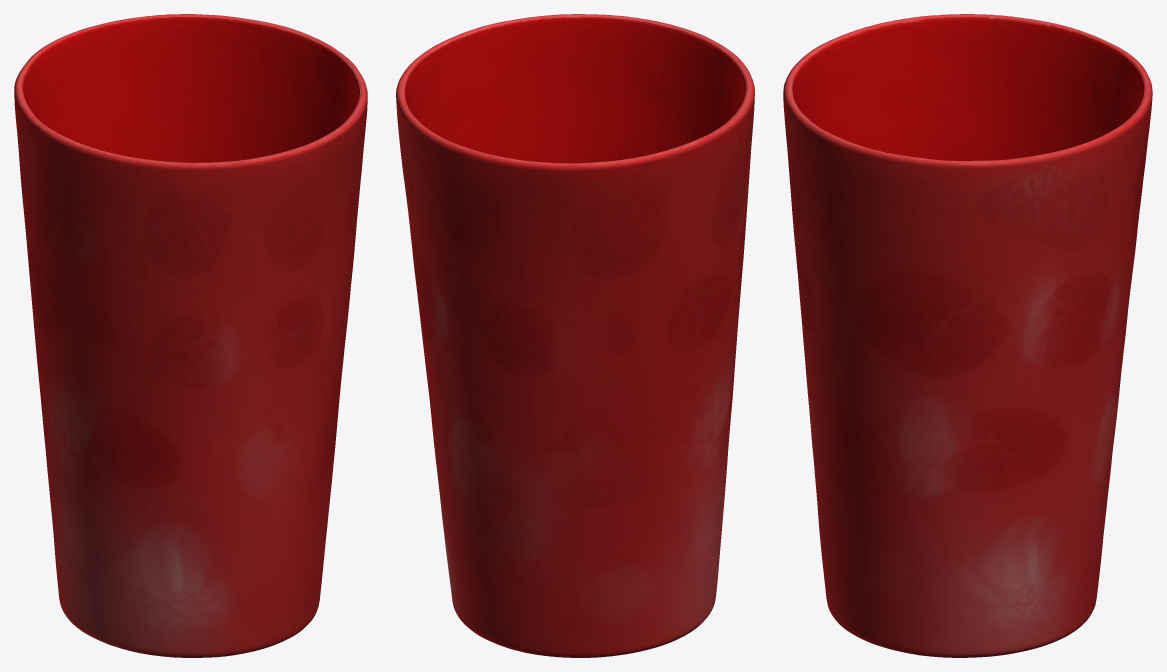
The picture shows the model from 3 angles, left to right: view 1: azimuth 30°, elevation 25°; view 2: azimuth 150°, elevation 25°; view 3: azimuth 270°, elevation 25°; orthographic projection.
Parts seen in each view (by area): view 1: world; view 2: world; view 3: world.
Part boxes in pixels (<box>): world: <box>14,14,367,657</box>; world: <box>396,14,754,657</box>; world: <box>783,14,1152,657</box>.
Size of the model in its own units: 0.1114 by 0.1798 by 0.1154.
Materials: 1 (1 with a texture image).
